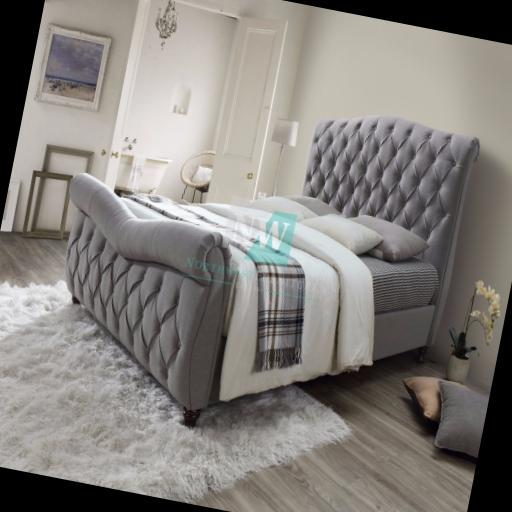bed: (29, 57, 484, 472)
